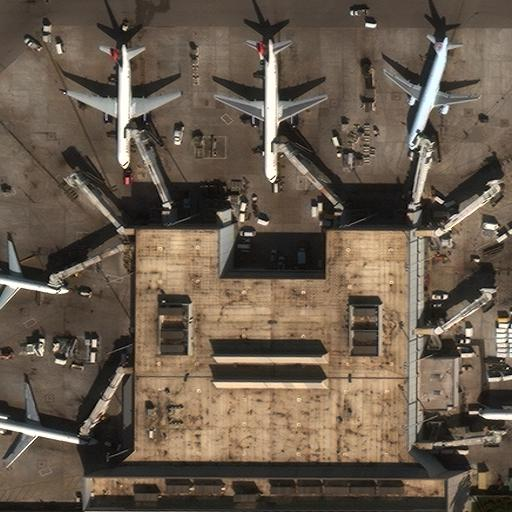Large Civil Transport: (214, 38, 327, 184), (65, 43, 182, 169)
Medium Civil Transport: (383, 36, 479, 151), (0, 382, 98, 468), (0, 240, 68, 314)
